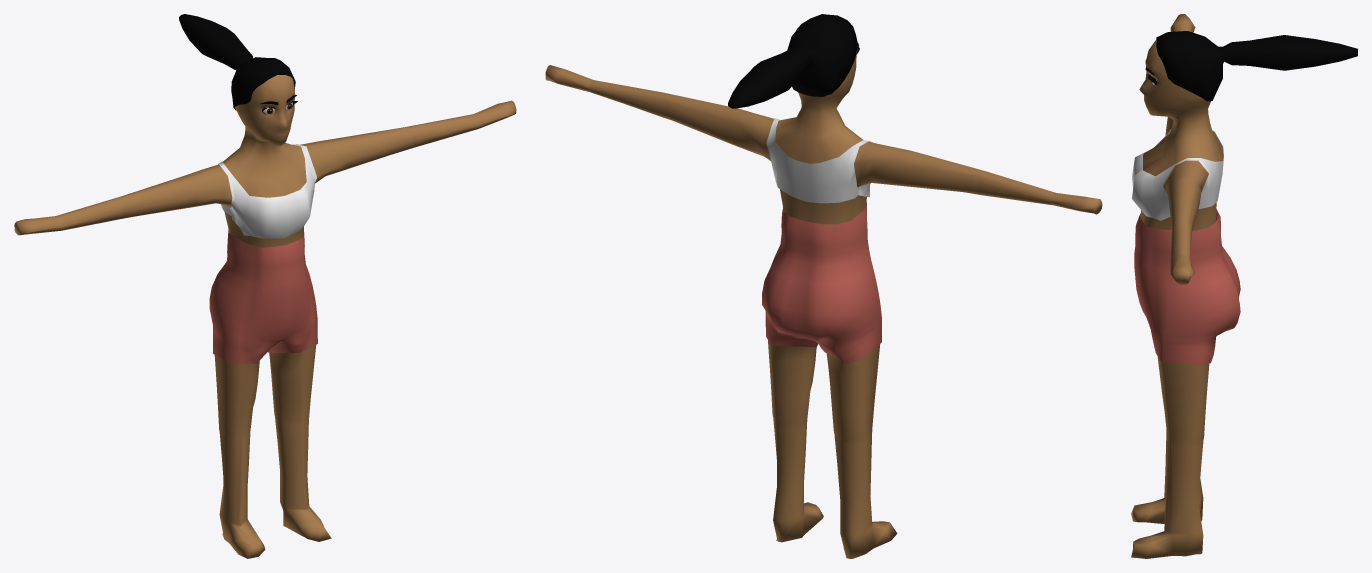
Rendered from kim.fbx.
3 renders of one model, left to right at view 1: azimuth 30°, elevation 25°; view 2: azimuth 150°, elevation 25°; view 3: azimuth 270°, elevation 25°, orthographic. The views are drawn at different scales.
Visible parts, largest first — view 1: Plane.002, Plane.006, Plane.004, Plane.003; view 2: Plane.002, Plane.006, Plane.003, Plane.004; view 3: Plane.002, Plane.006, Plane.003, Plane.004.
Part boxes in pixels (left/top/right/bottom): Plane.002: left=14, top=75, right=516, bottom=558; Plane.006: left=209, top=230, right=317, bottom=364; Plane.004: left=218, top=144, right=316, bottom=238; Plane.003: left=179, top=14, right=295, bottom=110; Plane.002: left=545, top=49, right=1102, bottom=558; Plane.006: left=762, top=203, right=881, bottom=363; Plane.003: left=728, top=14, right=857, bottom=108; Plane.004: left=766, top=118, right=872, bottom=203; Plane.002: left=1131, top=14, right=1223, bottom=558; Plane.006: left=1134, top=209, right=1240, bottom=364; Plane.003: left=1156, top=31, right=1357, bottom=101; Plane.004: left=1132, top=129, right=1223, bottom=220.
Size of the model in its own units: 1477 by 1347 by 551.
5 materials, 1 textured.
